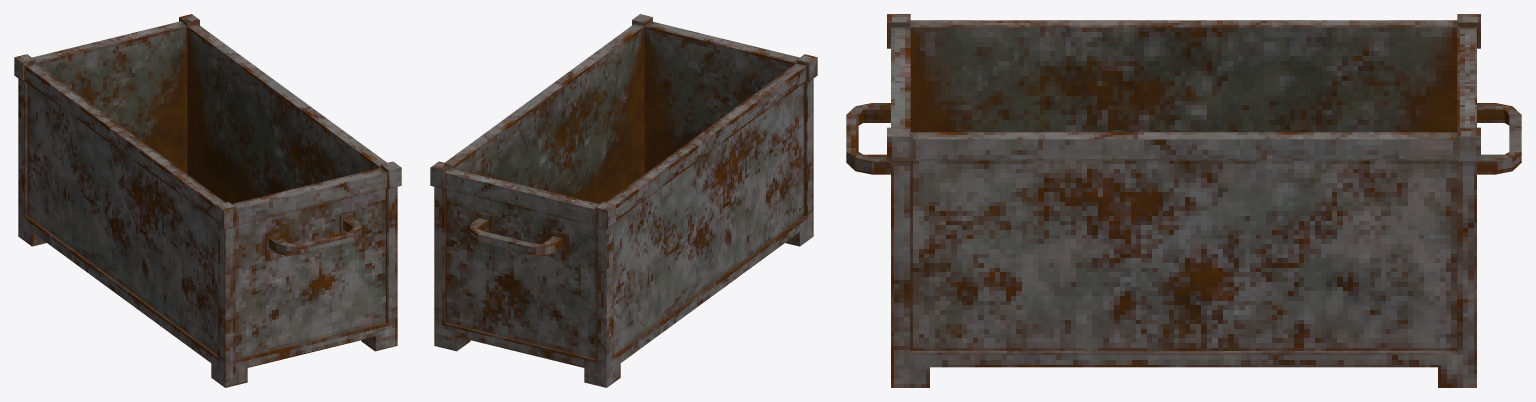
The model's file is Container.glb.
3 views of the same model, side by side, from view 1: azimuth 30°, elevation 25°; view 2: azimuth 150°, elevation 25°; view 3: azimuth 270°, elevation 25° (orthographic). The views are drawn at different scales.
Parts seen in each view (by area): view 1: Cube, Cube.001; view 2: Cube, Cube.001; view 3: Cube, Cube.001.
Part boxes in pixels (<box>): Cube: <box>14,14,401,387</box>; Cube.001: <box>265,211,361,260</box>; Cube: <box>430,14,817,387</box>; Cube.001: <box>470,211,566,260</box>; Cube: <box>887,14,1480,387</box>; Cube.001: <box>846,103,1521,174</box>.
Size of the model in its own units: 0.72 by 0.6938 by 1.68.
Materials: 1 (1 with a texture image).
